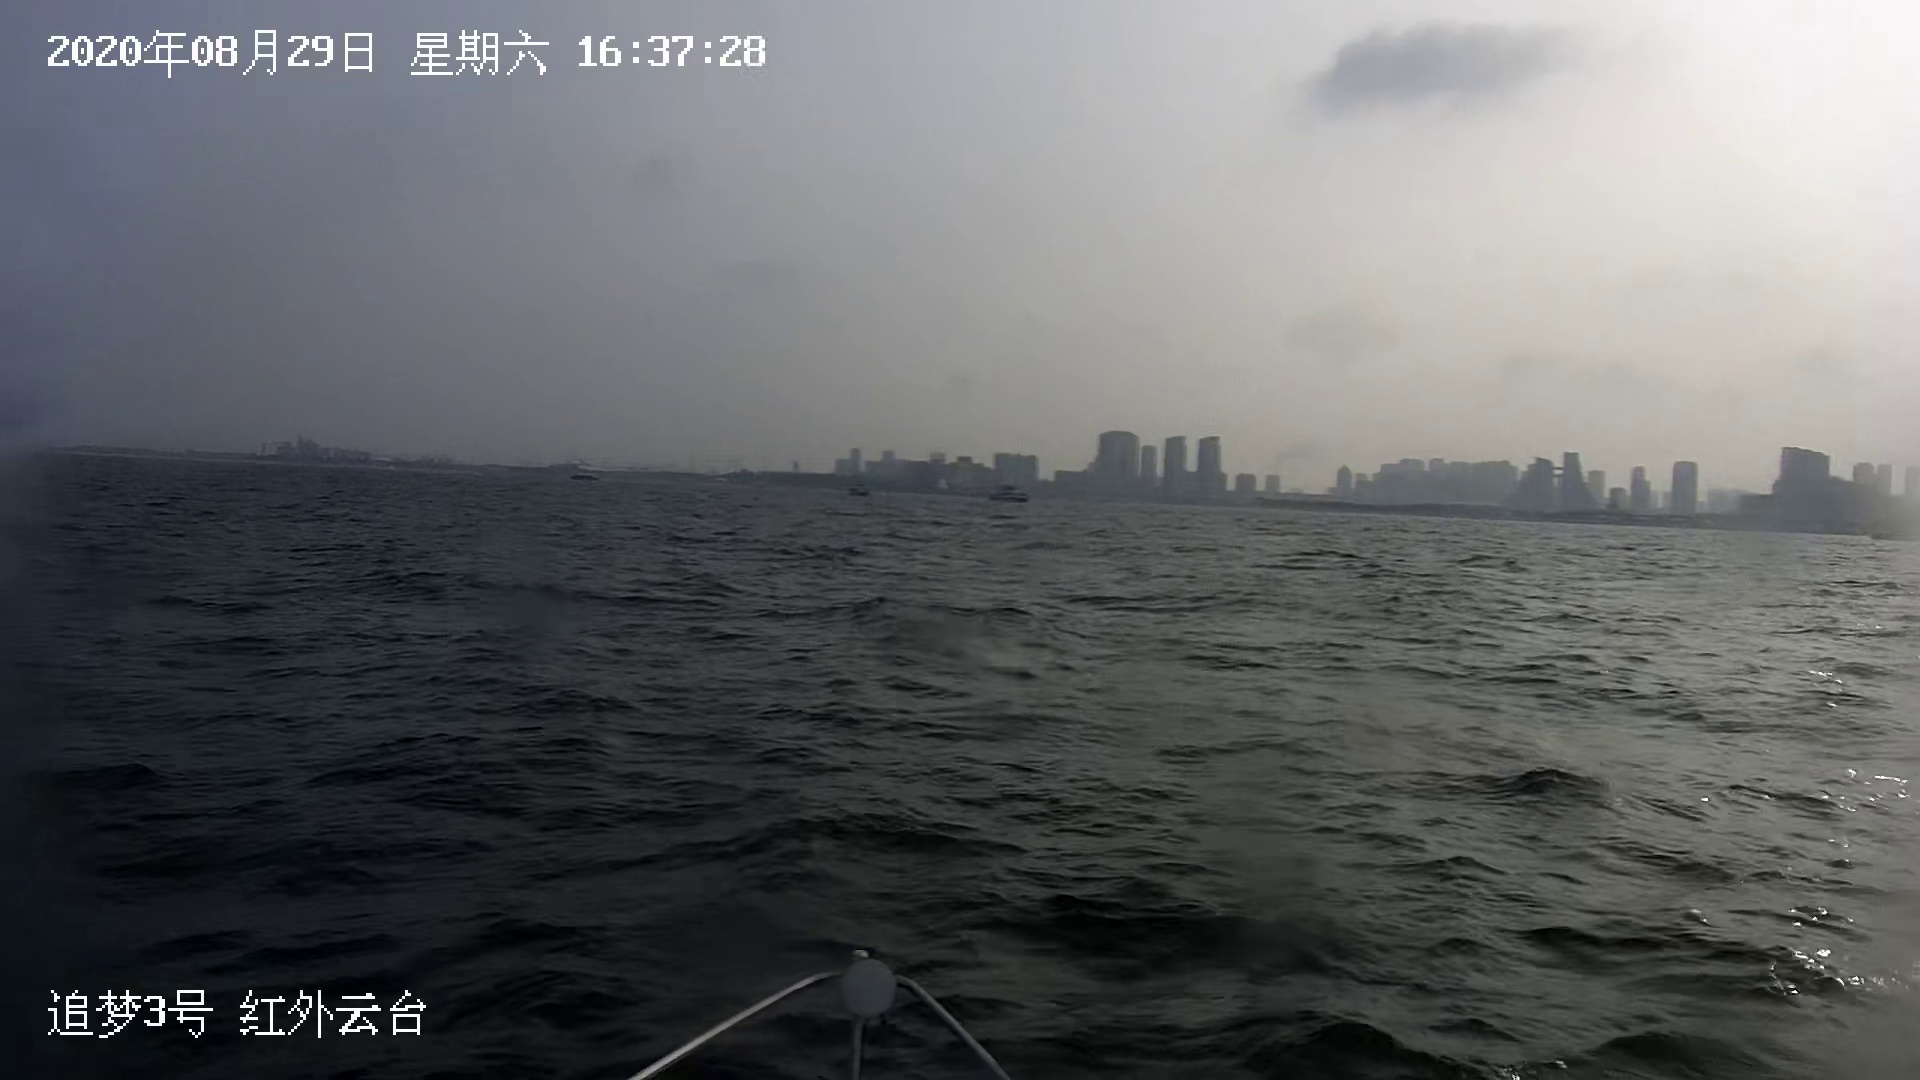barrier: (993, 488, 1035, 505), (847, 487, 877, 498)
coast: (179, 406, 1917, 538)
